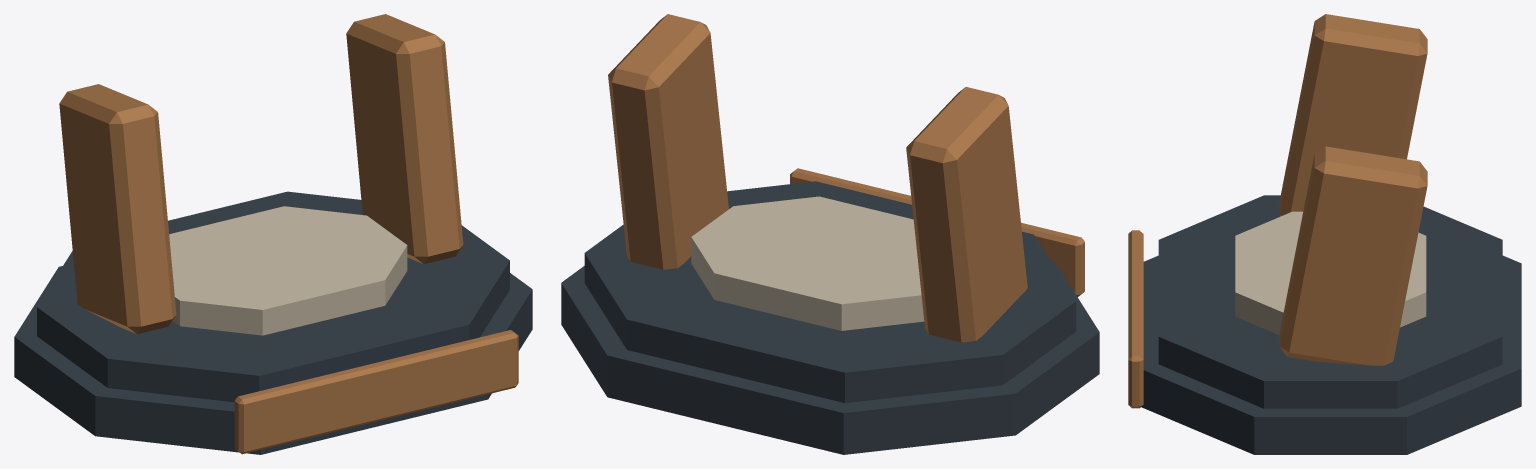
The model's file is Gallery_SpecimenStand.fbx.
The picture shows the model from 3 angles, left to right: view 1: azimuth 30°, elevation 25°; view 2: azimuth 150°, elevation 25°; view 3: azimuth 270°, elevation 25°; orthographic projection. The views are drawn at different scales.
Visible parts, largest first — view 1: Wood, FrameDark, Concrete; view 2: FrameDark, Wood, Concrete; view 3: FrameDark, Wood, Concrete.
Part boxes in pixels (x1=…): Wood: x1=59, y1=14, x2=518, y2=454; FrameDark: x1=14, y1=191, x2=532, y2=454; Concrete: x1=169, y1=206, x2=407, y2=335; FrameDark: x1=561, y1=181, x2=1099, y2=454; Wood: x1=608, y1=14, x2=1084, y2=342; Concrete: x1=691, y1=196, x2=924, y2=330; FrameDark: x1=1141, y1=195, x2=1521, y2=454; Wood: x1=1128, y1=14, x2=1427, y2=408; Concrete: x1=1235, y1=211, x2=1426, y2=334.
Bounding box in the file's own units: 2.5 × 1.54 × 2.06.
